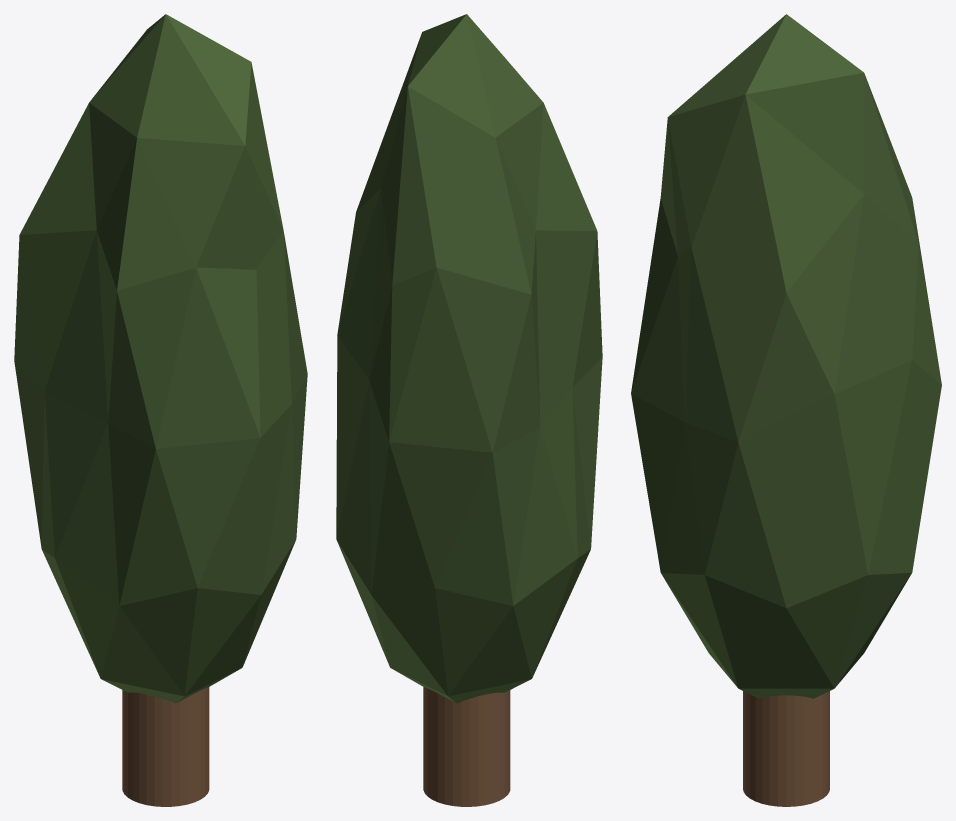
Rendered from tree2.obj.
The picture shows the model from 3 angles, left to right: view 1: azimuth 30°, elevation 25°; view 2: azimuth 150°, elevation 25°; view 3: azimuth 270°, elevation 25°; orthographic projection.
Visible parts, largest first — view 1: Icosphere, Cylinder; view 2: Icosphere, Cylinder; view 3: Icosphere, Cylinder.
Part boxes in pixels (x1,y1,x2,y2): Icosphere: (14,14,307,703); Cylinder: (122,687,209,806); Icosphere: (336,14,602,703); Cylinder: (423,687,510,806); Icosphere: (631,14,941,698); Cylinder: (743,691,829,806).
Bounding box in the file's own units: 6.05 × 19.58 × 7.12.
